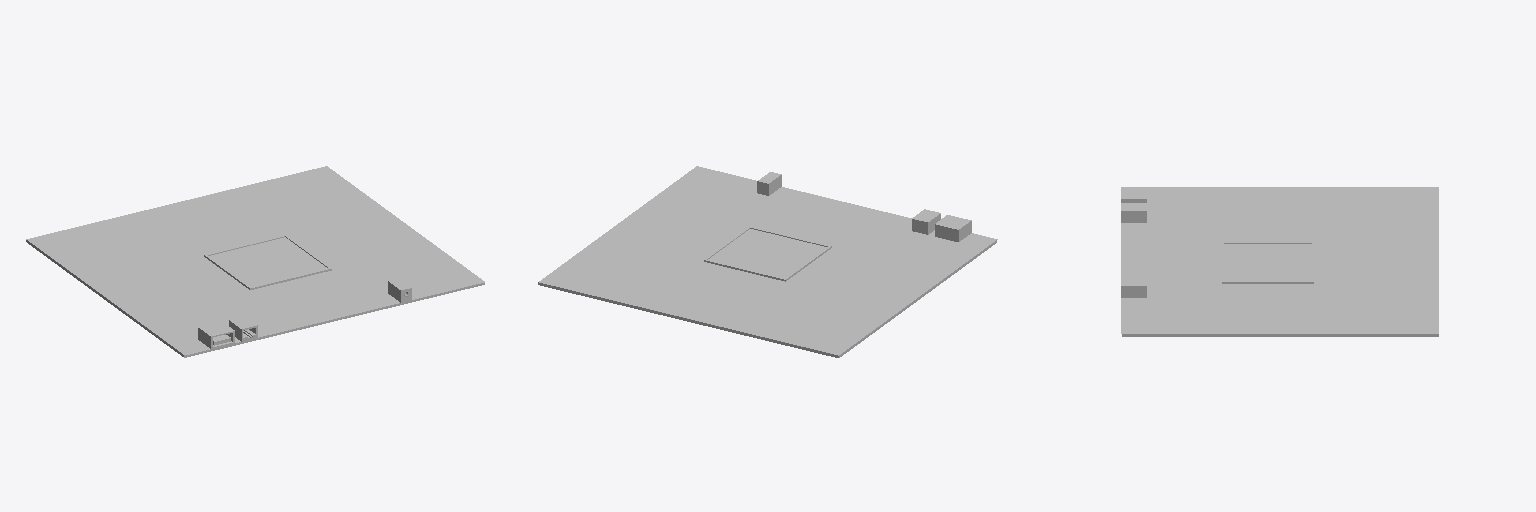
File: Motherboard.obj
The picture shows the model from 3 angles: view 1: azimuth 30°, elevation 25°; view 2: azimuth 150°, elevation 25°; view 3: azimuth 270°, elevation 25°; orthographic projection.
Parts seen in each view (by area): view 1: Cube; view 2: Cube; view 3: Cube.
Boxes of the visible parts, x1,y1,x2,y2 form: Cube: [26, 166, 484, 357]; Cube: [538, 166, 997, 357]; Cube: [1121, 187, 1438, 336].
Size of the model in its own units: 18 by 0.8817 by 16.47.